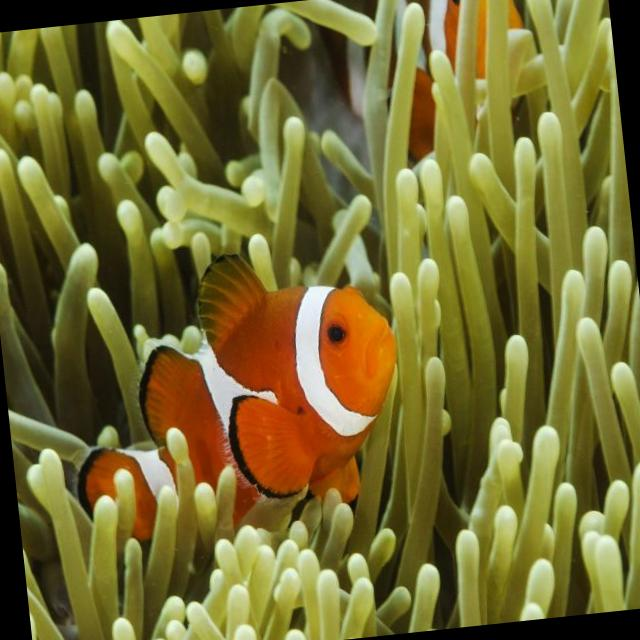ClownFish: (51, 237, 416, 538)
